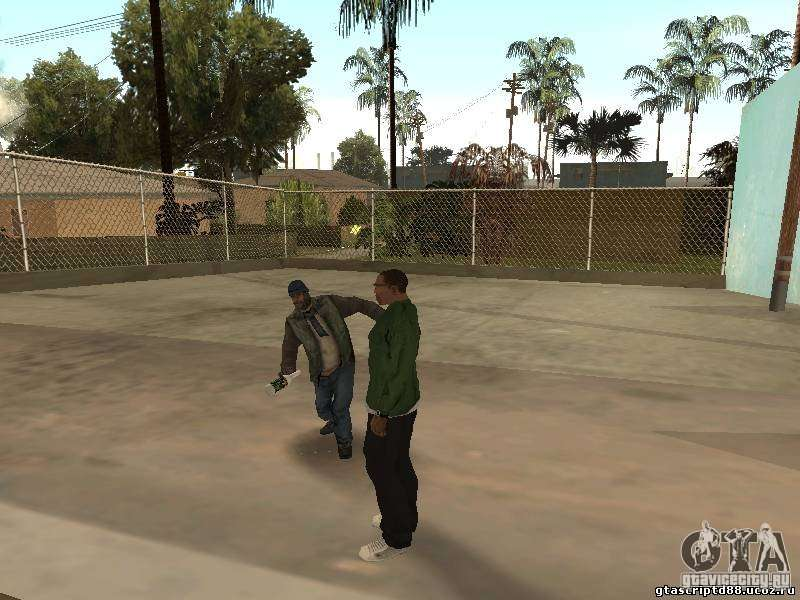person: (362, 265, 426, 568), (272, 273, 360, 471)
